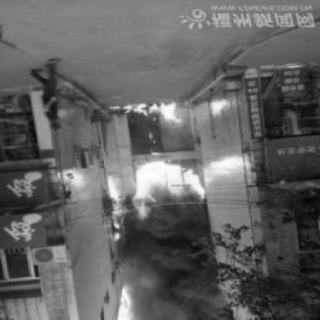Fire: (110, 98, 189, 134), (204, 154, 253, 187), (60, 170, 88, 190), (207, 98, 231, 120)
other: (257, 140, 317, 187), (0, 166, 52, 211), (245, 74, 263, 146)
